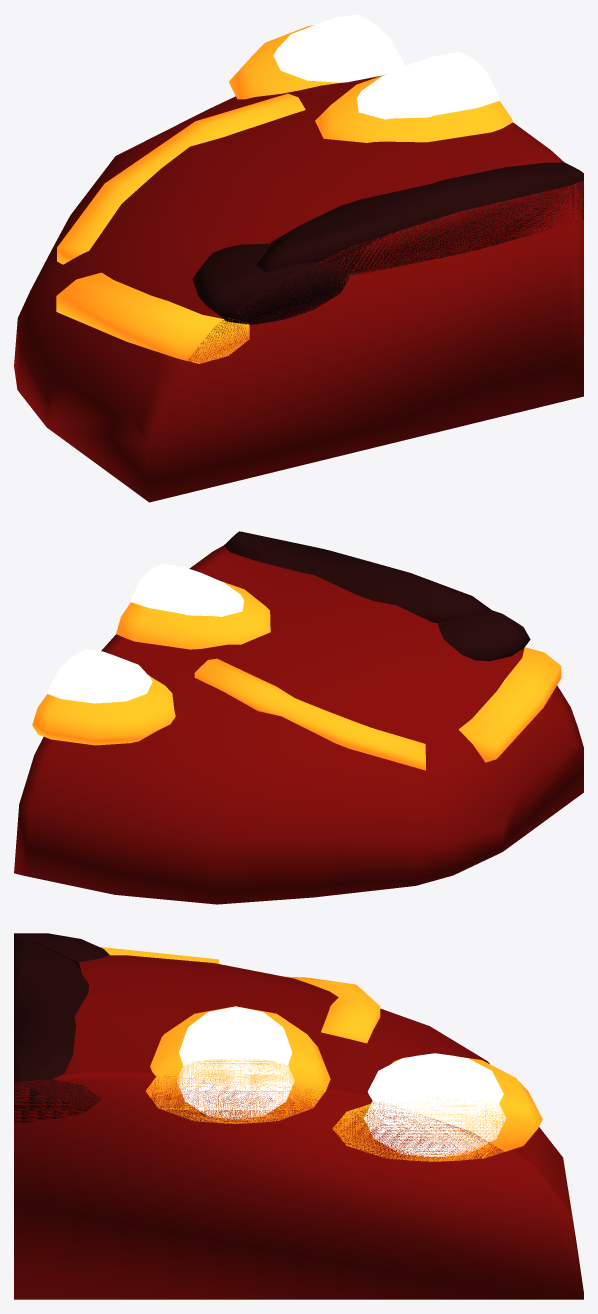
Rendered from newshe-77.glb.
The picture shows the model from 3 angles, top to bottom: view 1: azimuth 30°, elevation 25°; view 2: azimuth 150°, elevation 25°; view 3: azimuth 270°, elevation 25°; orthographic projection. The views are drawn at different scales.
Visible parts, largest first — view 1: newshe-77; view 2: newshe-77; view 3: newshe-77.
Part boxes in pixels (x1,y1,x2,y2): newshe-77: (14, 14, 583, 502); newshe-77: (14, 531, 583, 904); newshe-77: (14, 933, 583, 1299).
Size of the model in its own units: 1.33 by 0.7553 by 1.5.
